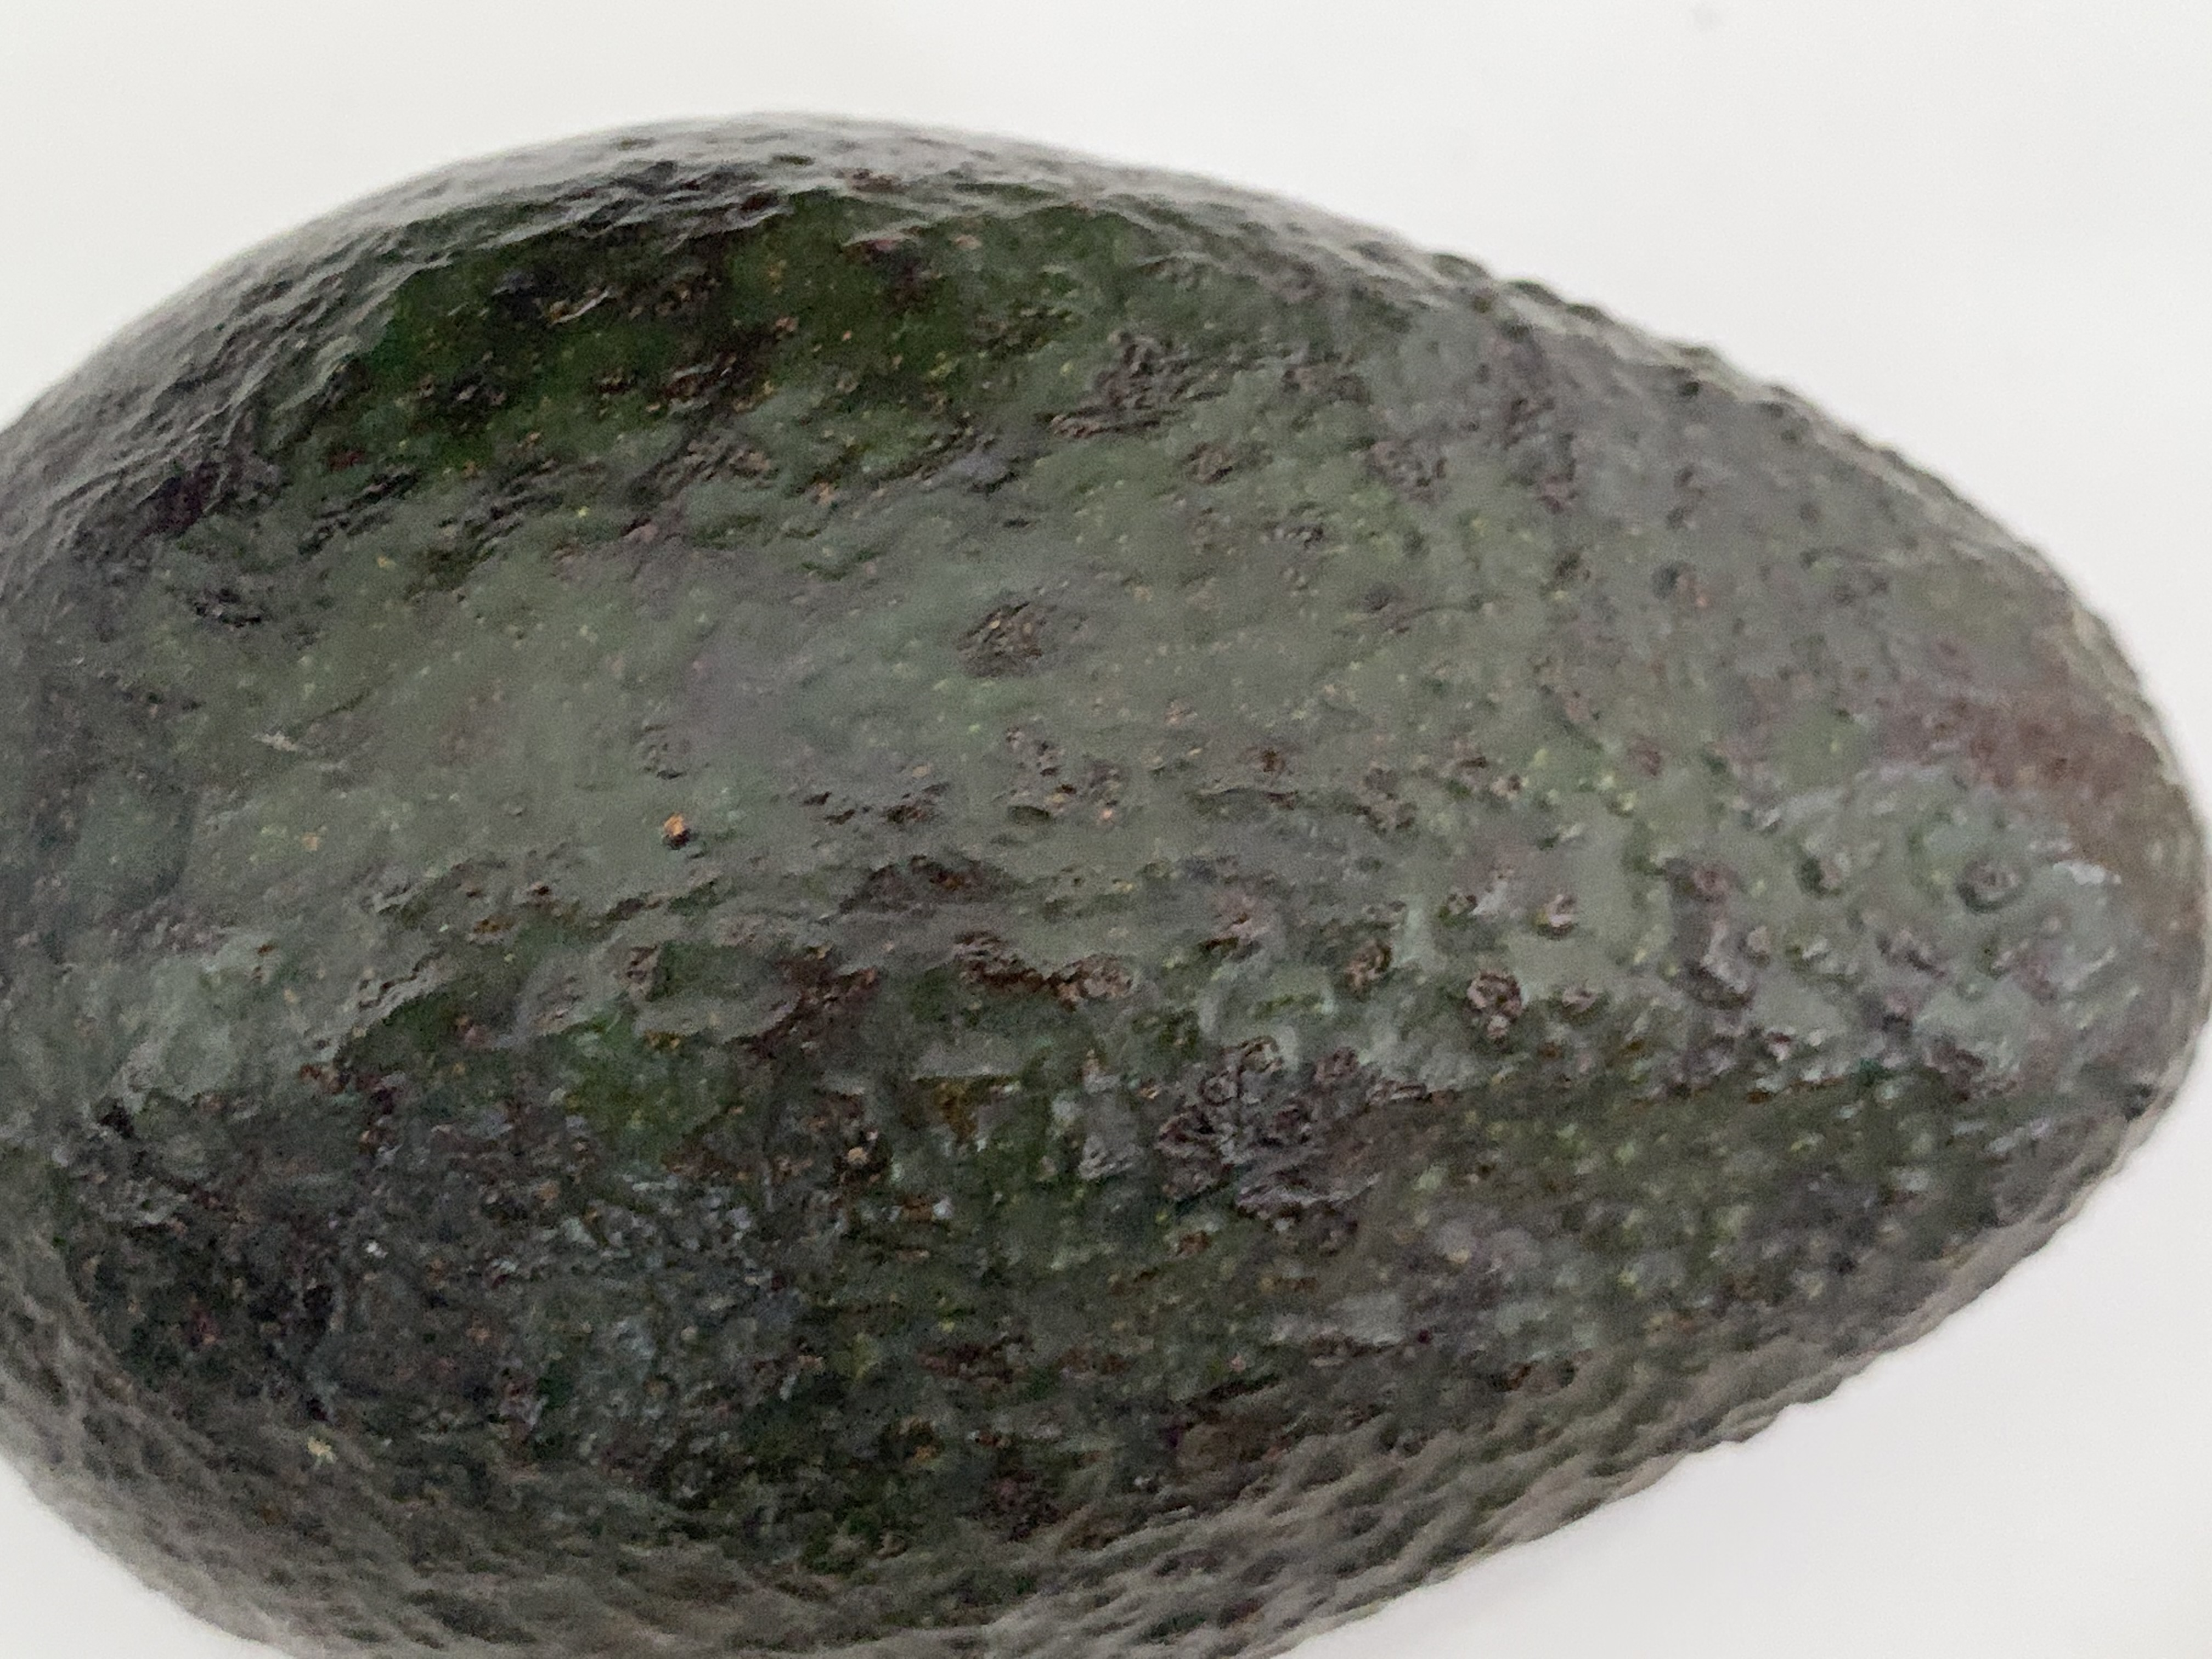avocado: (31, 125, 2184, 1659)
